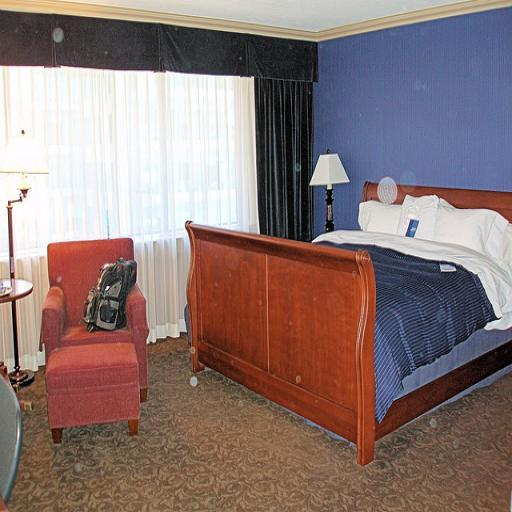bed: (169, 145, 512, 511)
